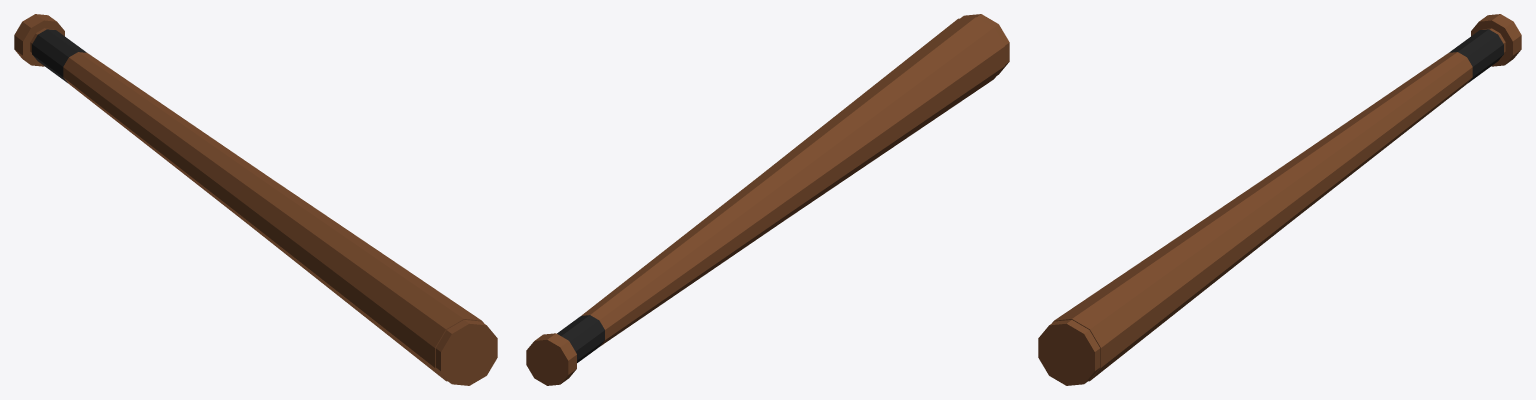
File: WPN_Bat.fbx
3 renders of one model, left to right at view 1: azimuth 30°, elevation 25°; view 2: azimuth 150°, elevation 25°; view 3: azimuth 330°, elevation 25°, orthographic.
Parts seen in each view (by area): view 1: WPN_Bat__BODY; view 2: WPN_Bat__BODY; view 3: WPN_Bat__BODY.
Boxes of the visible parts, x1=… form: WPN_Bat__BODY: x1=14, y1=14, x2=497, y2=385; WPN_Bat__BODY: x1=526, y1=14, x2=1009, y2=385; WPN_Bat__BODY: x1=1038, y1=14, x2=1521, y2=385.
Bounding box in the file's own units: 0.0685 × 0.072 × 0.885.
